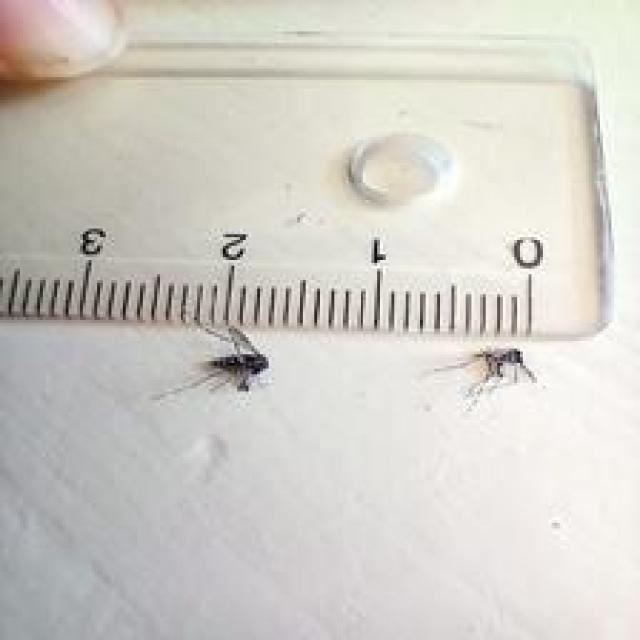Aedes albopictus: (152, 322, 268, 402)
